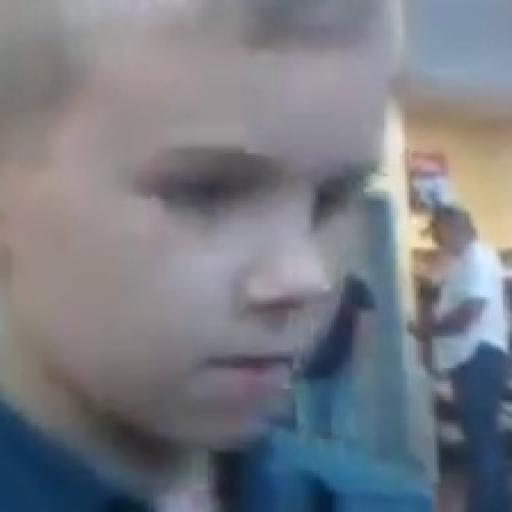Autism: (10, 18, 431, 484)
